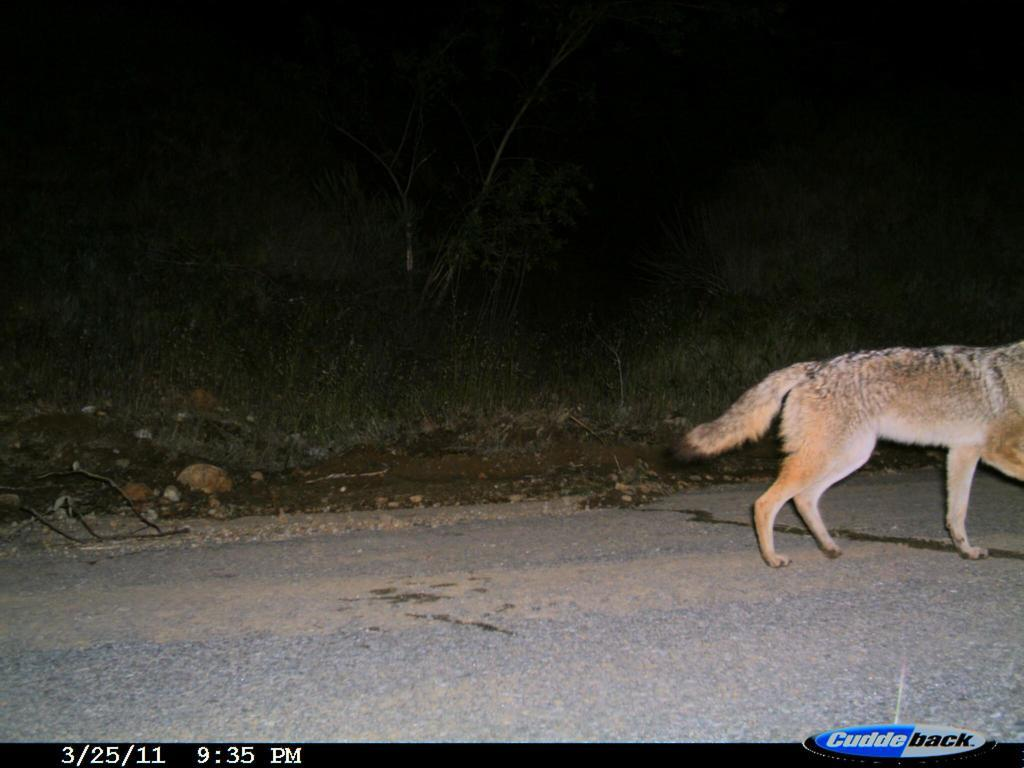coyote: (657, 326, 1023, 594)
